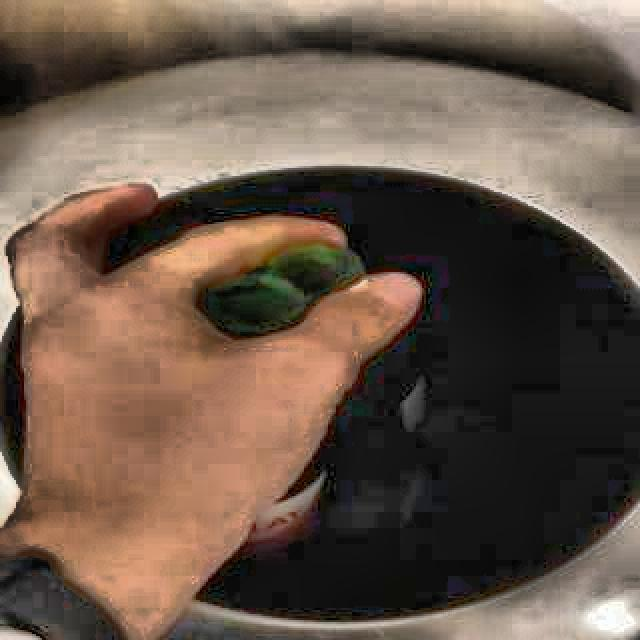glass: (195, 244, 365, 340), (333, 345, 427, 433), (251, 466, 325, 541)
